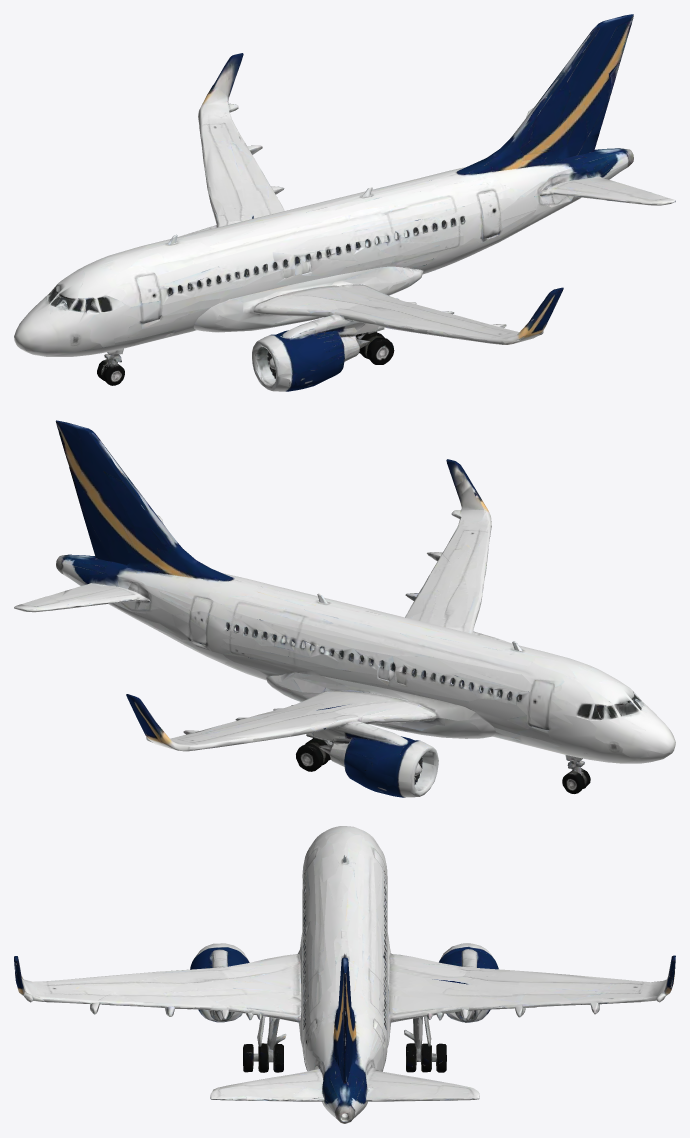
The model's file is upm_mv3pqjl54xg.glb.
3 views of the same model, one above another, from view 1: azimuth 30°, elevation 25°; view 2: azimuth 150°, elevation 25°; view 3: azimuth 270°, elevation 25° (orthographic). The views are drawn at different scales.
Bounding box in the file's own units: 1.9 × 0.7131 × 1.72.
1 material, 1 textured.
